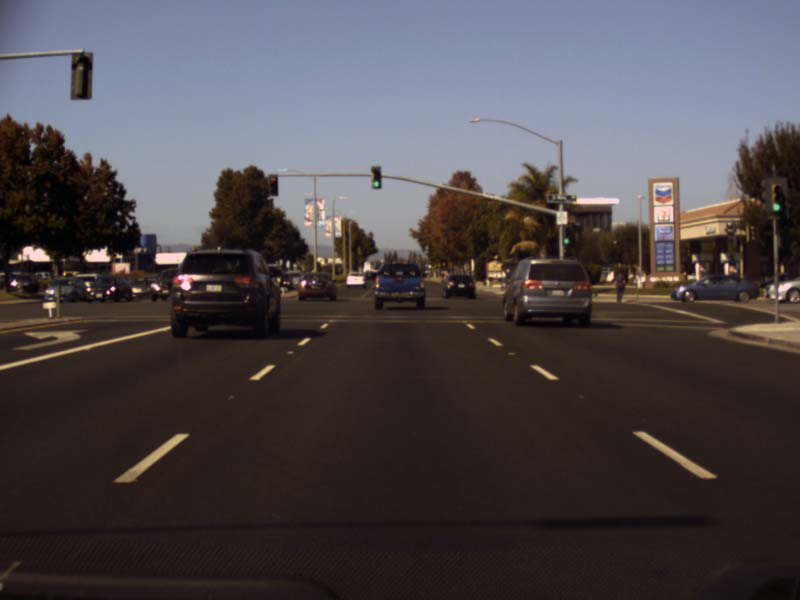Green: (770, 183, 783, 212), (562, 224, 572, 247), (371, 166, 381, 189)
Red: (267, 174, 277, 194)
